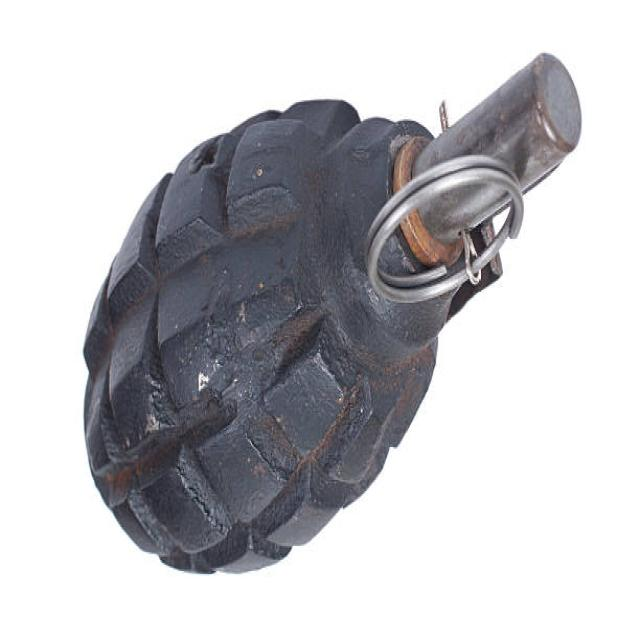grenade: (71, 39, 595, 600)
